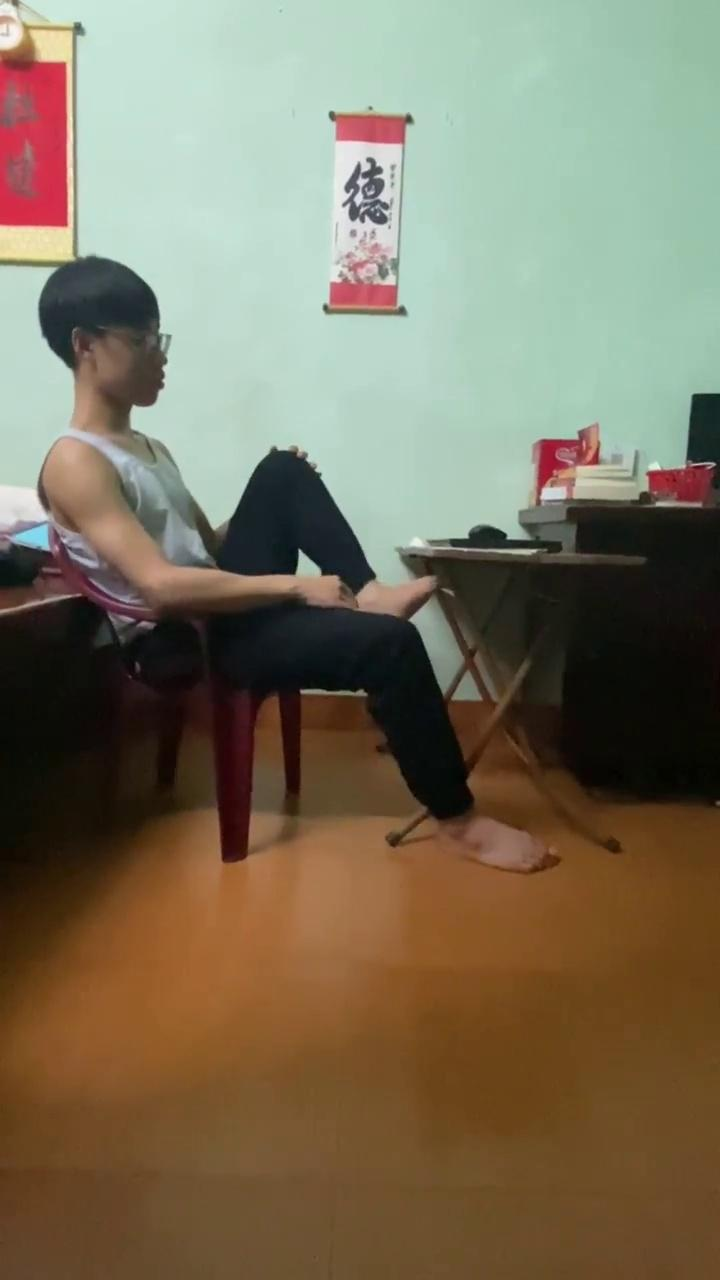BadPosture: (218, 449, 556, 873)
